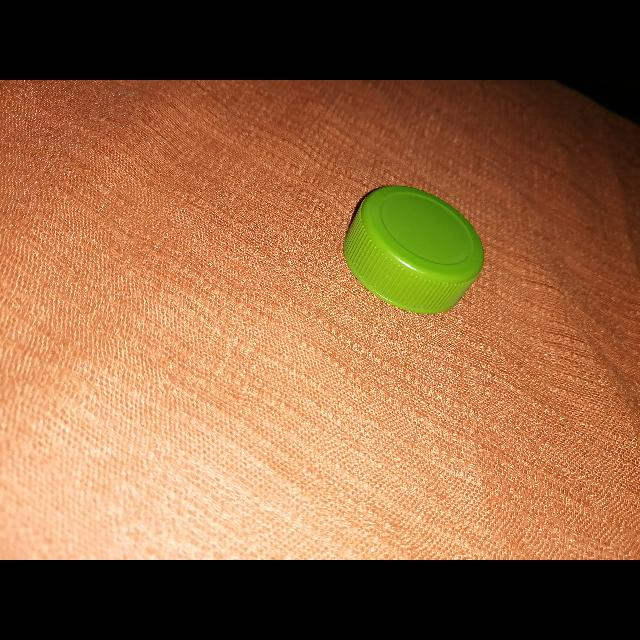plastic_bottle_cap: (345, 185, 485, 315)
